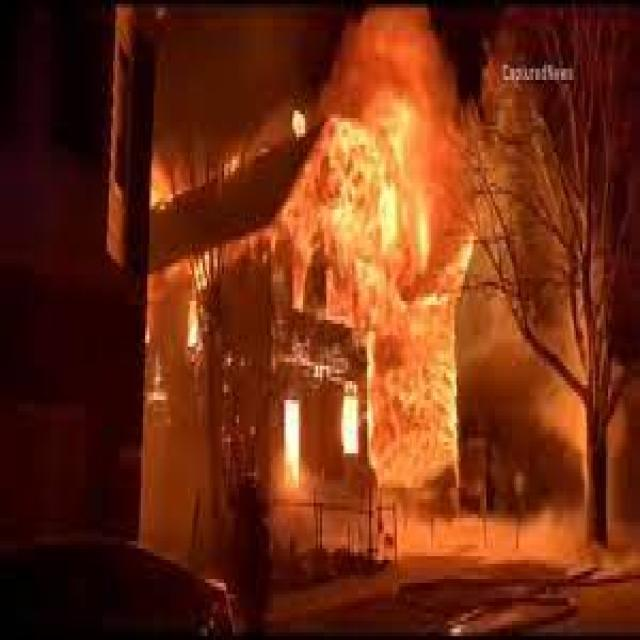Fire: (324, 132, 474, 504)
Smoke: (325, 12, 523, 204)
